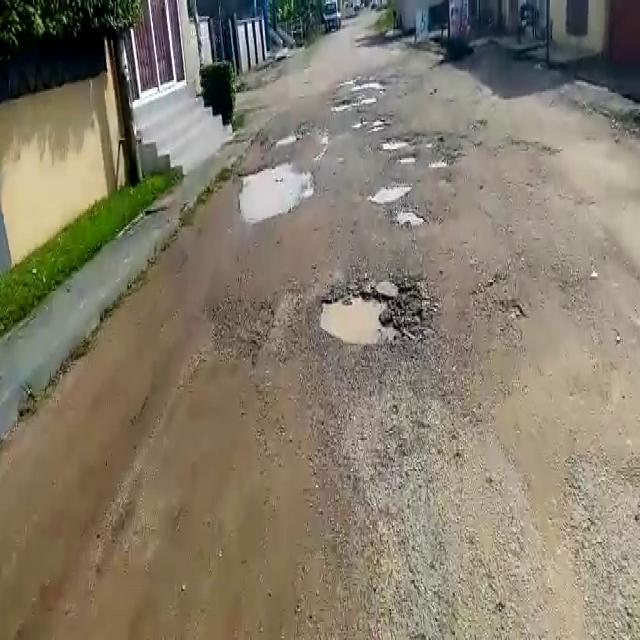Pothole: (310, 271, 436, 351), (241, 165, 318, 219), (366, 178, 410, 204), (389, 205, 427, 227), (329, 97, 373, 113), (380, 135, 420, 149), (354, 116, 392, 130), (397, 152, 419, 167), (274, 133, 297, 146), (428, 161, 448, 169)
